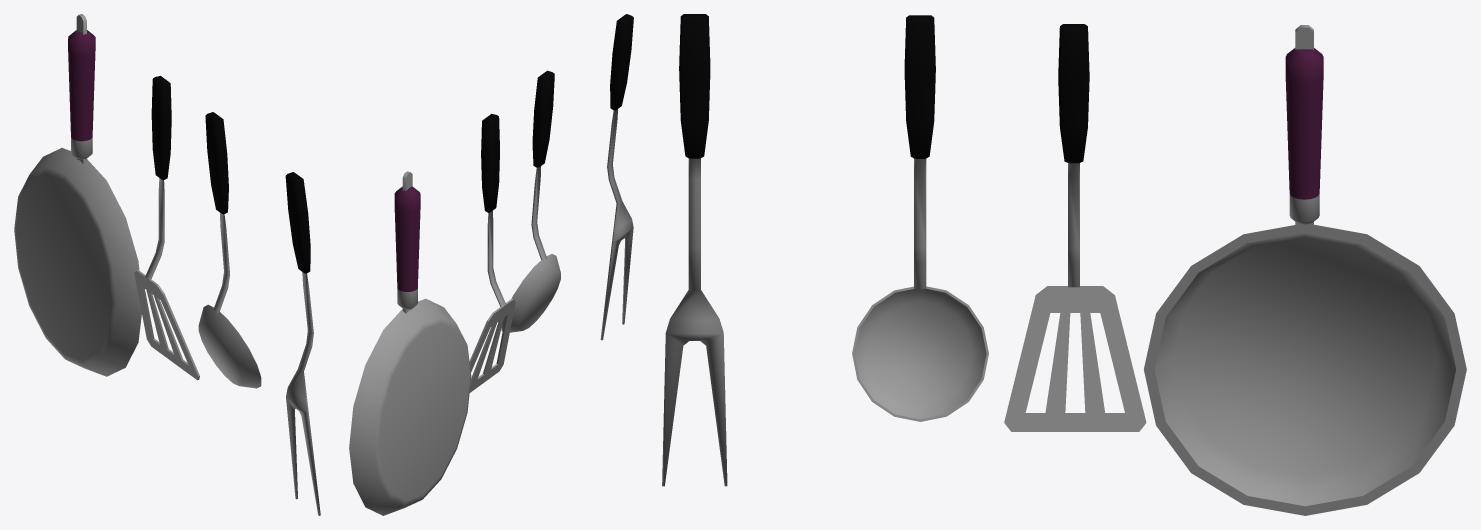
File: Utensils.fbx
3 renders of one model, left to right at view 1: azimuth 30°, elevation 25°; view 2: azimuth 150°, elevation 25°; view 3: azimuth 270°, elevation 25°, orthographic. The views are drawn at different scales.
Parts seen in each view (by area): view 1: FryingPan, Utensils2, Utensils1, Utensils3; view 2: FryingPan, Utensils2, Utensils1, Utensils3; view 3: FryingPan, Utensils2, Utensils1, Utensils3.
Part boxes in pixels (left/top/right/bottom): FryingPan: left=14, top=14, right=141, bottom=376; Utensils2: left=198, top=112, right=261, bottom=388; Utensils1: left=134, top=76, right=199, bottom=380; Utensils3: left=285, top=172, right=320, bottom=515; FryingPan: left=349, top=171, right=471, bottom=515; Utensils2: left=501, top=70, right=560, bottom=332; Utensils1: left=469, top=113, right=515, bottom=392; Utensils3: left=600, top=14, right=633, bottom=340; FryingPan: left=1143, top=25, right=1466, bottom=515; Utensils2: left=852, top=15, right=988, bottom=421; Utensils1: left=1004, top=24, right=1146, bottom=431; Utensils3: left=662, top=14, right=727, bottom=486.
Bounding box in the file's own units: 5.74 × 43.09 × 63.71.
